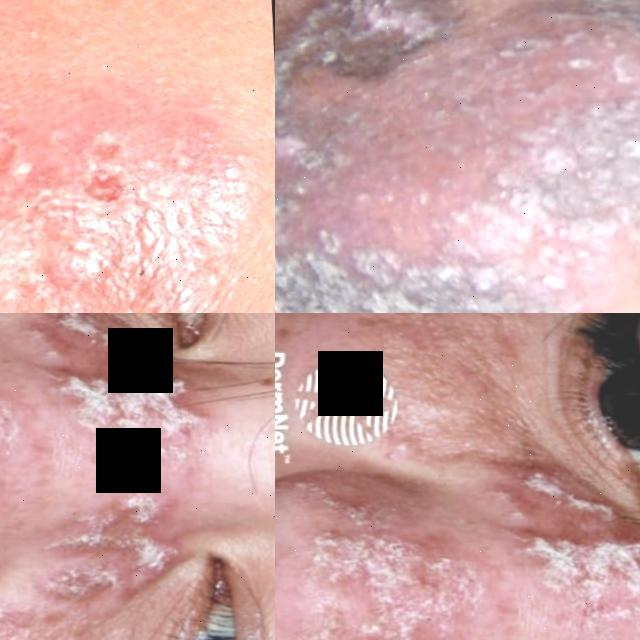lupus-detected: (275, 0, 640, 313), (0, 313, 275, 640), (275, 398, 640, 640), (0, 24, 275, 313)
